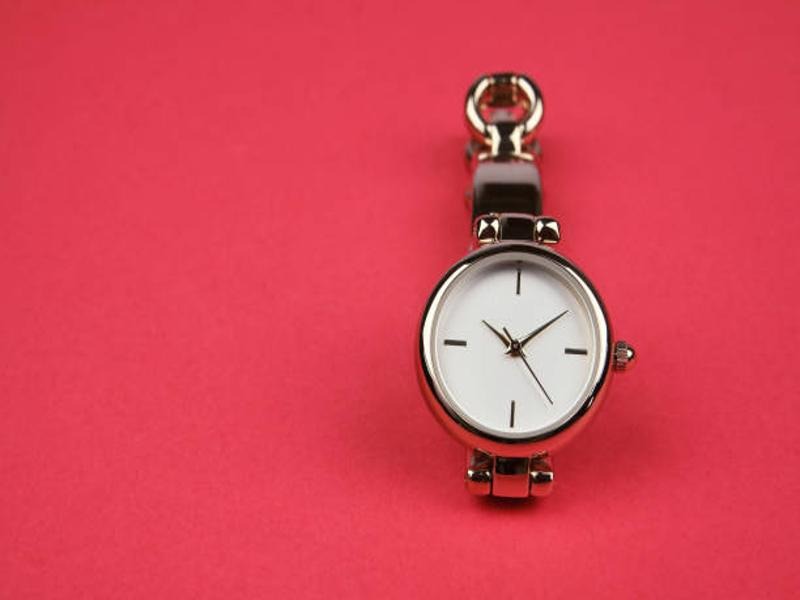watch: (414, 71, 637, 502)
